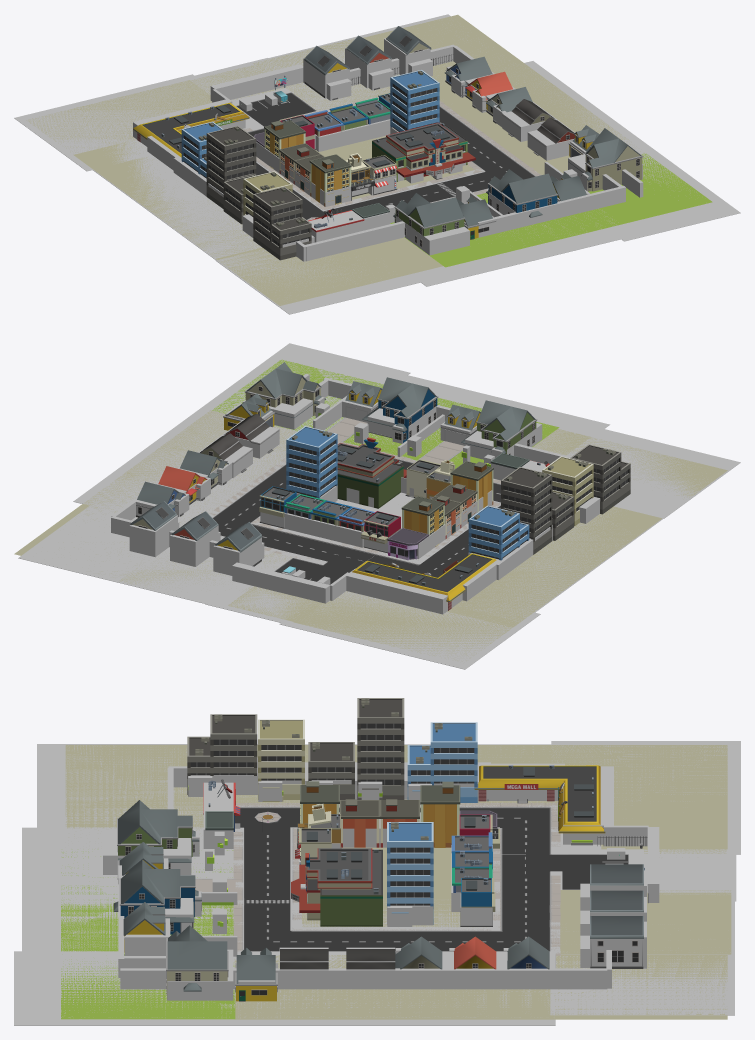
Rendered from town.fbx.
3 views of the same model, one above another, from view 1: azimuth 30°, elevation 25°; view 2: azimuth 150°, elevation 25°; view 3: azimuth 270°, elevation 25° (orthographic). The views are drawn at different scales.
Visible parts, largest first — view 1: gravel_square_mesh_(7), proxy_(10), gravel_square_mesh_(1), grass_square_mesh, proxy_(9), proxy_(7), gravel_square_mesh_(4), gravel_square_mesh_(2), Building_Cinema, proxy_(8), proxy_(1), Building_OfficeStepped_Grey (+52 smaller); view 2: proxy_(7), proxy_(6), gravel_square_mesh_(2), proxy_(10), gravel_square_mesh_(4), proxy_(8), gravel_square_mesh_(7), proxy_(9), proxy_(1), gravel_square_mesh_(1), Building_Cinema, Building_OfficeLarge_Blue (+54 smaller); view 3: gravel_square_mesh_(7), proxy_(1), proxy_(7), gravel_square_mesh_(4), grass_square_mesh, gravel_square_mesh_(1), proxy_(6), proxy_(21), gravel_square_mesh_(6), proxy_(8), Building_Cinema, Building_Mall (+60 smaller).
Boxes of the visible parts, <box> form: gravel_square_mesh_(7): <box>363,14,640,174</box>; proxy_(10): <box>14,74,263,171</box>; gravel_square_mesh_(1): <box>216,237,442,305</box>; grass_square_mesh: <box>390,153,712,267</box>; proxy_(9): <box>93,145,261,260</box>; proxy_(7): <box>439,61,740,241</box>; gravel_square_mesh_(4): <box>26,80,212,152</box>; gravel_square_mesh_(2): <box>74,141,260,258</box>; Building_Cinema: <box>372,122,475,181</box>; proxy_(8): <box>216,249,420,314</box>; proxy_(1): <box>410,188,636,286</box>; Building_OfficeStepped_Grey: <box>253,186,311,260</box>; proxy_(7): <box>73,343,410,527</box>; proxy_(6): <box>18,504,295,608</box>; gravel_square_mesh_(2): <box>447,506,661,627</box>; proxy_(10): <box>279,568,540,669</box>; gravel_square_mesh_(4): <box>293,591,511,661</box>; proxy_(8): <box>566,428,740,518</box>; gravel_square_mesh_(7): <box>14,410,296,577</box>; proxy_(9): <box>458,506,663,622</box>; proxy_(1): <box>324,371,609,484</box>; gravel_square_mesh_(1): <box>533,429,727,499</box>; Building_Cinema: <box>337,437,406,508</box>; Building_OfficeLarge_Blue: <box>286,426,337,498</box>; gravel_square_mesh_(7): <box>234,955,727,1019</box>; proxy_(1): <box>22,827,243,951</box>; proxy_(7): <box>14,951,555,1025</box>; gravel_square_mesh_(4): <box>601,745,727,849</box>; grass_square_mesh: <box>61,850,235,1019</box>; gravel_square_mesh_(1): <box>65,745,203,848</box>; proxy_(6): <box>550,889,734,1015</box>; proxy_(21): <box>120,968,559,989</box>; gravel_square_mesh_(6): <box>560,890,731,954</box>; proxy_(8): <box>37,744,203,827</box>; Building_Cinema: <box>291,848,382,926</box>; Building_Mall: <box>474,765,605,845</box>.
Size of the model in its own units: 19572 by 3742 by 21121.
298 materials, 224 textured.
